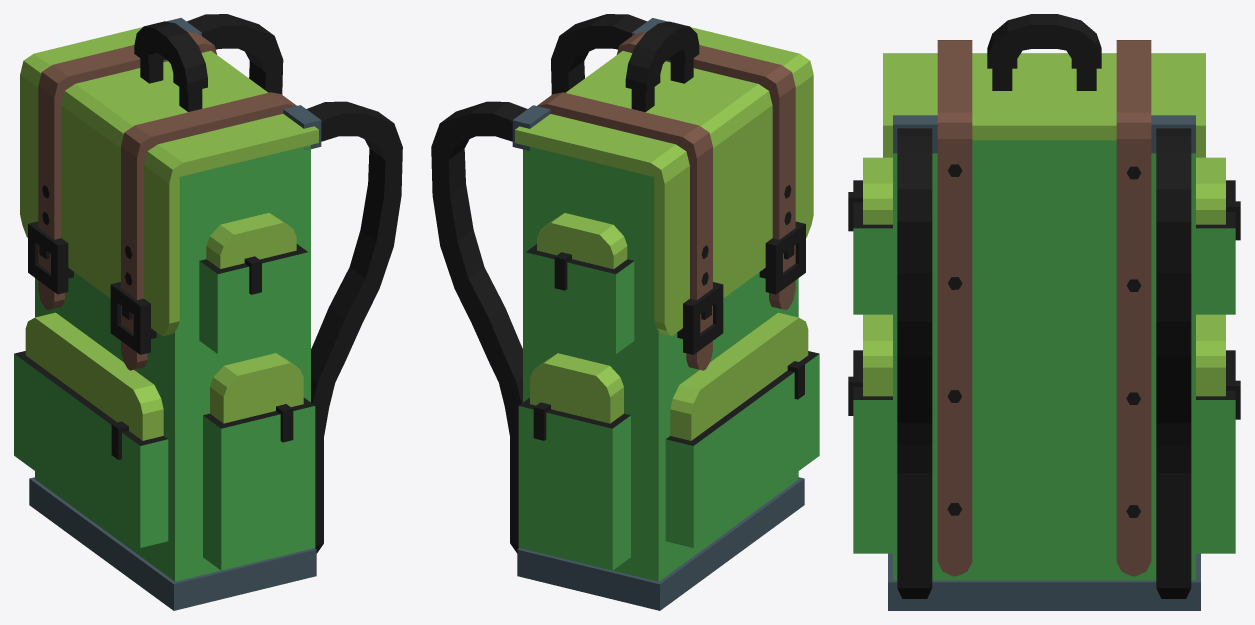
Rendered from backpack-sidepockets-olive.glb.
The picture shows the model from 3 angles, left to right: view 1: azimuth 30°, elevation 25°; view 2: azimuth 150°, elevation 25°; view 3: azimuth 270°, elevation 25°; orthographic projection. The views are drawn at different scales.
Parts seen in each view (by area): view 1: group357203529; view 2: group357203529; view 3: group357203529.
Part boxes in pixels (x1,y1,x2,y2): group357203529: (14,14,402,610); group357203529: (431,14,819,610); group357203529: (848,14,1240,610).
Bounding box in the file's own units: 0.69 × 1.29 × 0.8295.
